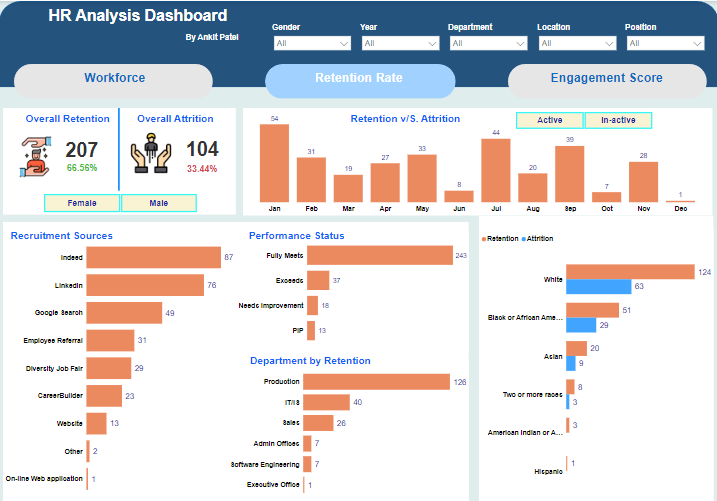

What the dashboard file says about the page in this screenshot:
{"tool":"powerbi","page":{"name":"Page 1","canvas":[1700,1200],"ordinal":0},"visuals":[{"type":"shape","box":[0,0,1700,203.9],"z":0},{"type":"actionButton","title":"HR Analysis Dashboard","box":[77.7,14,500.2,52.8],"z":1},{"type":"slicer","title":"Gender","fields":{"Values":["HR_Dataset.Sex"]},"box":[640.6,52.2,201.2,80.2],"z":2},{"type":"slicer","title":"Ethnicity ","fields":{"Values":["HR_Dataset.Ethnicity "]},"box":[848.3,51.2,202,80.6],"z":3},{"type":"slicer","title":"Location","fields":{"Values":["HR_Dataset.State"]},"box":[1265.3,51.2,202,80.6],"z":4},{"type":"slicer","title":"Department","fields":{"Values":["HR_Dataset.Department"]},"box":[1056.8,52.4,202,80.6],"z":5},{"type":"slicer","title":"Position","fields":{"Values":["HR_Dataset.Position"]},"box":[1473.8,53.1,202.2,78.8],"z":6},{"type":"shape","box":[14.1,226.2,598.4,973.8],"z":7},{"type":"image","box":[77.8,274,209.8,164.1],"z":8},{"type":"image","box":[340,274,208.1,164.1],"z":9},{"type":"barChart","fields":{"Category":["HR_Dataset.Ethnicity "],"Y":["CountNonNull(HR_Dataset.Ethnicity )"]},"box":[640.9,245.1,697.5,419.9],"z":12},{"type":"card","fields":{"Values":["Measures Table.% Female"]},"box":[13,437.7,300,37.7],"z":14},{"type":"card","fields":{"Values":["Measures Table.Male %"]},"box":[313,437.7,298.6,37.7],"z":15},{"type":"card","fields":{"Values":["Measures Table.Total Female"]},"box":[29,530.4,242,66.7],"z":16},{"type":"card","fields":{"Values":["Measures Table.Female Active"]},"box":[12,675.2,246.8,75.4],"z":17},{"type":"card","fields":{"Values":["Measures Table.Female In-active"]},"box":[15.4,828.9,243.3,54.8],"z":18},{"type":"card","fields":{"Values":["Measures Table.Female Avg Salary"]},"box":[15.4,961.4,291.3,61.7],"z":19},{"type":"card","fields":{"Values":["Measures Table.Female MEDIAN Salary"]},"box":[15.4,1101.9,299.9,97.7],"z":20},{"type":"actionButton","title":"Total No. of Employees","box":[13,494.2,598.6,36.2],"z":21},{"type":"actionButton","title":"No. of Working Employees","box":[0,637.3,611.8,36],"z":22},{"type":"actionButton","title":"No. of Employees Left","box":[12,780.2,599.8,36],"z":23},{"type":"actionButton","title":"Avg Median Salary","box":[12,1065.9,599.8,36],"z":24},{"type":"actionButton","title":"Avg Annual Salary","box":[29.1,923.1,599.8,36],"z":25},{"type":"card","fields":{"Values":["Measures Table.Total Male"]},"box":[312.6,534,298.4,66],"z":26},{"type":"card","fields":{"Values":["Measures Table.Male Active"]},"box":[328.3,675.4,248.2,75.4],"z":27},{"type":"card","fields":{"Values":["Measures Table.Male In-active"]},"box":[328.3,829.3,248.2,55],"z":28},{"type":"card","fields":{"Values":["Measures Table.Male Avg Salary"]},"box":[328.3,959.7,248.2,61.3],"z":29},{"type":"card","fields":{"Values":["Measures Table.Male Median Salary"]},"box":[328.3,1102.6,248.2,97.4],"z":30},{"type":"actionButton","title":"Is there any","box":[12,238.2,181.7,36],"z":31},{"type":"actionButton","title":"Gender Disparities","box":[166.2,238.2,219.4,36],"z":32},{"type":"actionButton","title":"?","box":[385.6,241.6,27.4,29.1],"z":33}]}

Visuals, with their boxes in screenshot pixels (x1, y1, x2, y2), scaled from the page's 1700x1200 canvas onto the 717x501 screenshot:
shape: 0:0:716:85
"HR Analysis Dashboard" actionButton: 33:6:244:28
"Gender" slicer: 270:22:355:55
"Ethnicity " slicer: 358:21:443:55
"Location" slicer: 534:21:619:55
"Department" slicer: 446:22:531:56
"Position" slicer: 622:22:707:55
shape: 6:94:258:500
image: 33:114:121:183
image: 143:114:231:183
barChart - HR_Dataset.Ethnicity  x CountNonNull(HR_Dataset.Ethnicity ): 270:102:564:278
card - Measures Table.% Female: 5:183:132:198
card - Measures Table.Male %: 132:183:258:198
card - Measures Table.Total Female: 12:221:114:249
card - Measures Table.Female Active: 5:282:109:313
card - Measures Table.Female In-active: 6:346:109:369
card - Measures Table.Female Avg Salary: 6:401:129:427
card - Measures Table.Female MEDIAN Salary: 6:460:133:500
"Total No. of Employees" actionButton: 5:206:258:221
"No. of Working Employees" actionButton: 0:266:258:281
"No. of Employees Left" actionButton: 5:326:258:341
"Avg Median Salary" actionButton: 5:445:258:460
"Avg Annual Salary" actionButton: 12:385:265:400
card - Measures Table.Total Male: 132:223:258:250
card - Measures Table.Male Active: 138:282:243:313
card - Measures Table.Male In-active: 138:346:243:369
card - Measures Table.Male Avg Salary: 138:401:243:426
card - Measures Table.Male Median Salary: 138:460:243:500
"Is there any" actionButton: 5:99:82:114
"Gender Disparities" actionButton: 70:99:163:114
"?" actionButton: 163:101:174:113
